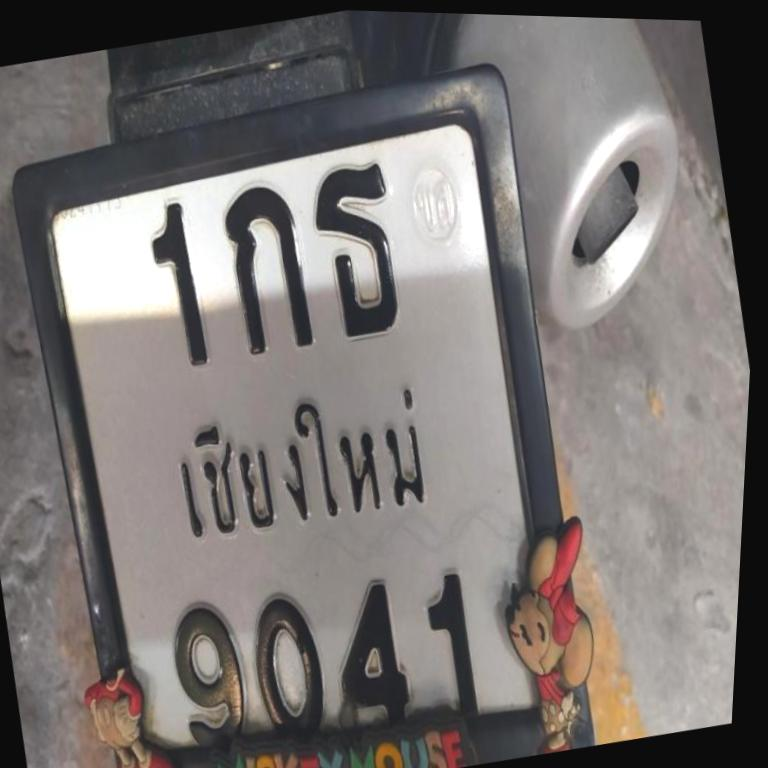license plate: (14, 65, 592, 768)
